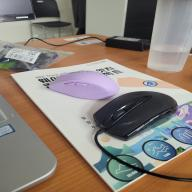mouse: (91, 90, 180, 141), (47, 69, 120, 101)
